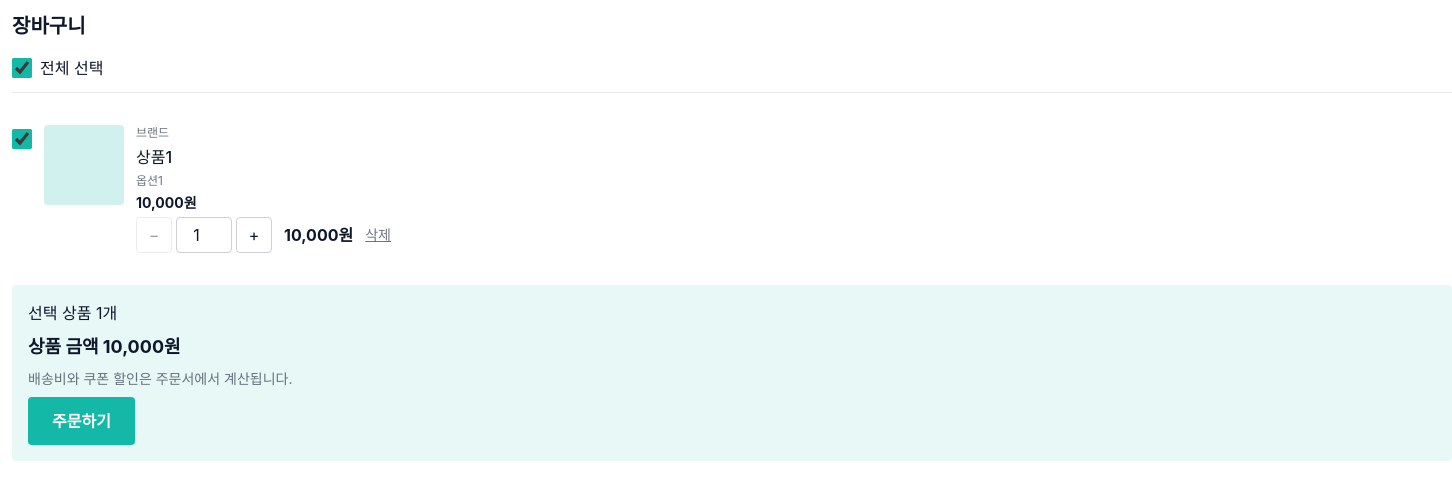
Test: 입력 후 Enter로 확정한 수량이 거절되면 서버 값으로 되돌린다
Replace the text in the number field named "수량" with "12" at (204, 235), box [176,217,232,253]
Then press Enter
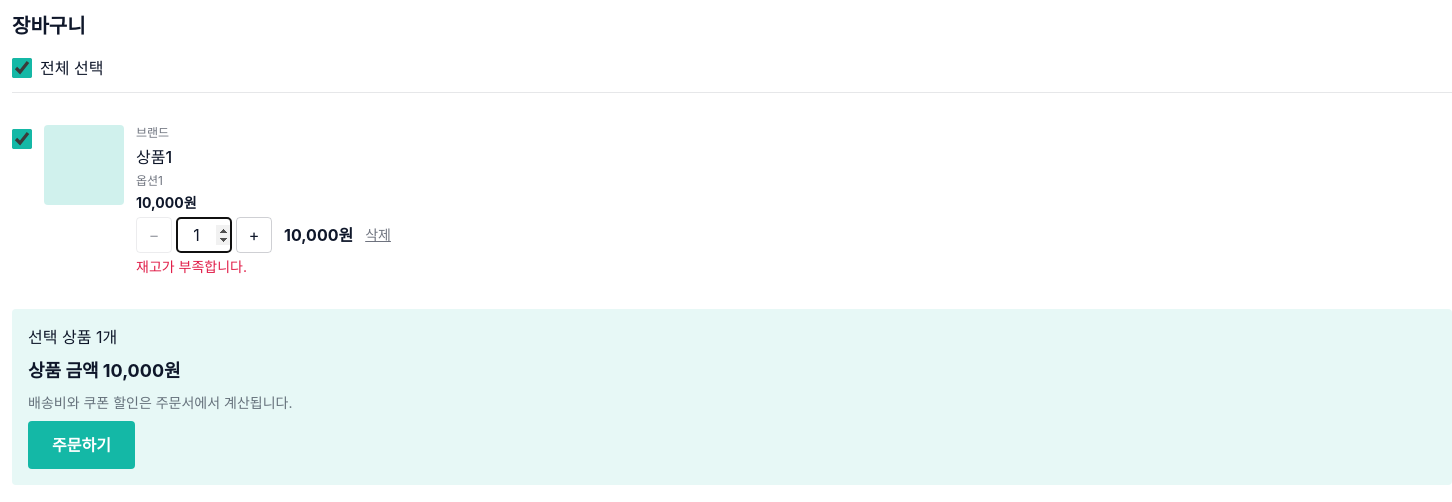
Expected: the message reads "재고가 부족합니다.", [136,258,247,275]
Expected: the number field named "수량" holds "1", [176,217,232,253]
